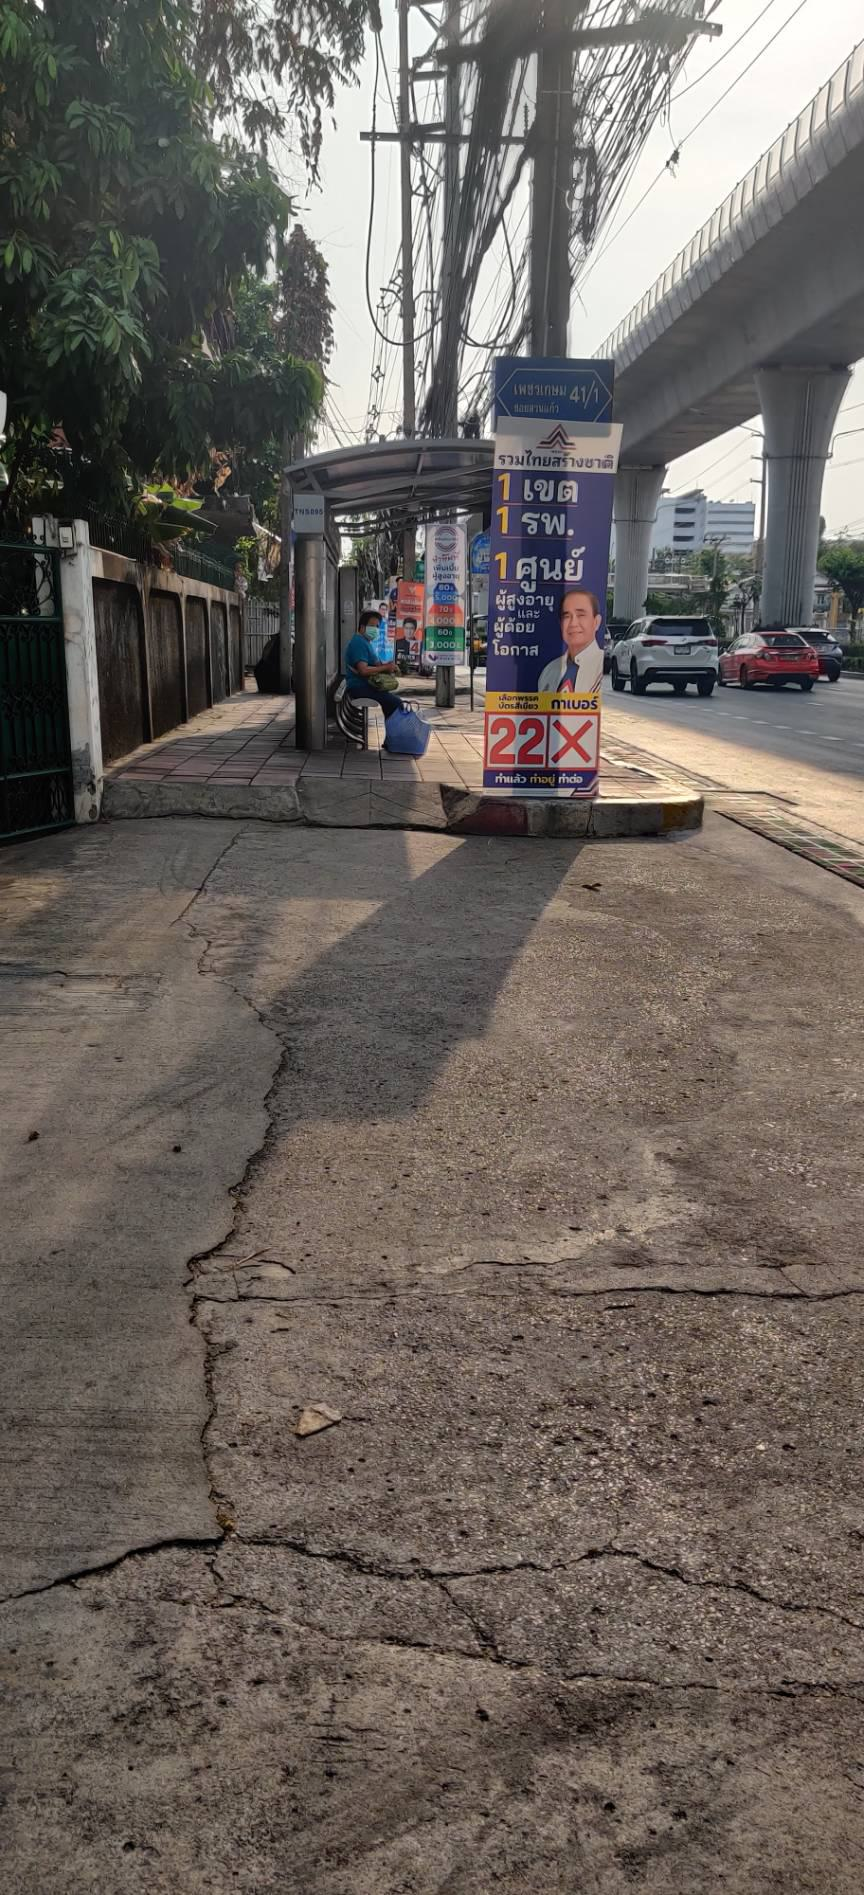Banner: (481, 334, 645, 815)
